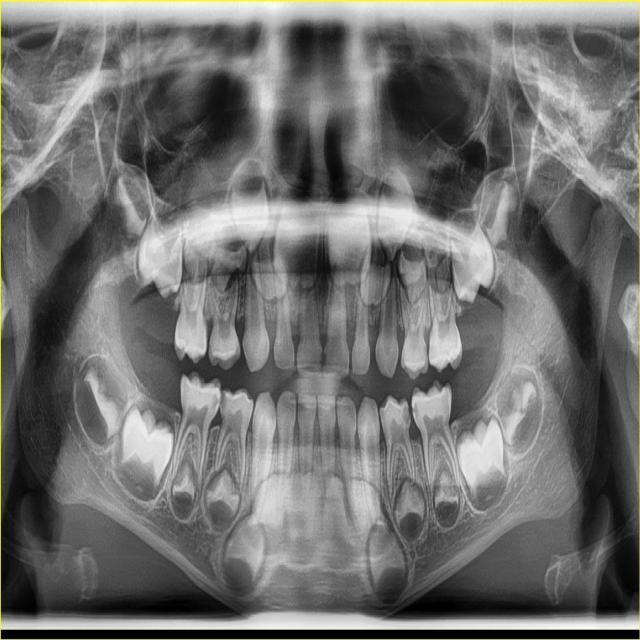Sterngold Implant: (220, 391, 229, 414), (410, 401, 420, 421), (211, 391, 222, 409), (402, 403, 411, 424), (420, 342, 427, 360), (317, 350, 323, 370), (323, 351, 329, 369), (428, 343, 435, 355)
